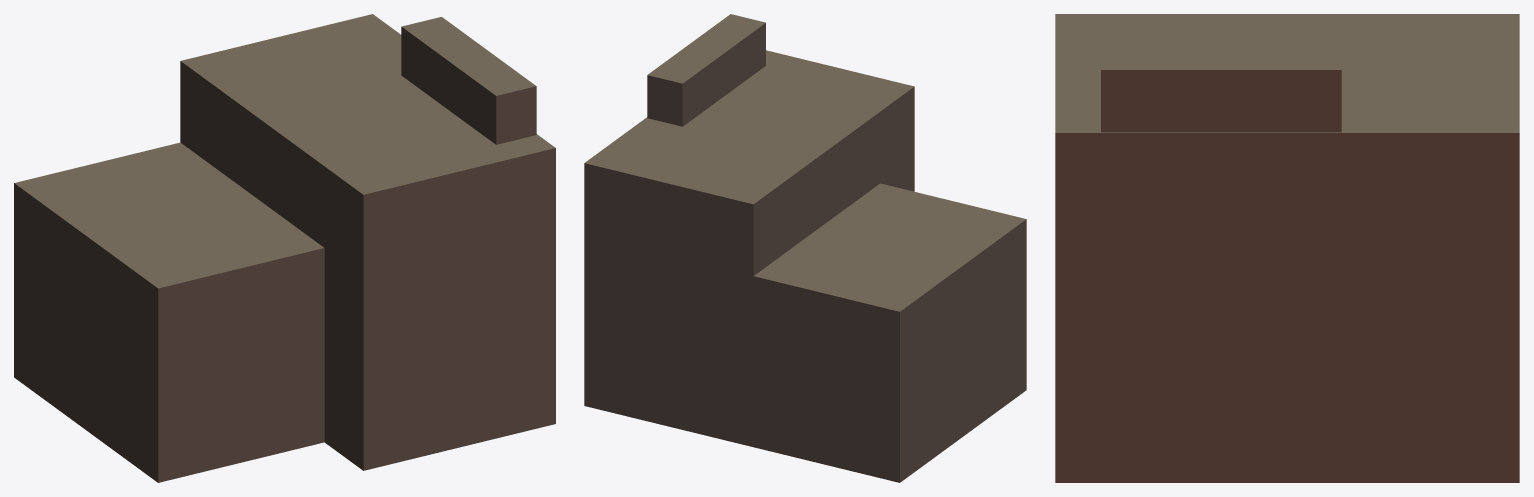
The model's file is mh-container-flats.far-facades-v3.lod2.glb.
The picture shows the model from 3 angles, left to right: view 1: azimuth 30°, elevation 25°; view 2: azimuth 150°, elevation 25°; view 3: azimuth 270°, elevation 25°; orthographic projection. The views are drawn at different scales.
Parts seen in each view (by area): view 1: mh-container-flats; view 2: mh-container-flats; view 3: mh-container-flats.
Part boxes in pixels (left/top/right/bottom): mh-container-flats: left=14, top=14, right=555, bottom=482; mh-container-flats: left=584, top=14, right=1026, bottom=482; mh-container-flats: left=1055, top=14, right=1519, bottom=482.
Bounding box in the file's own units: 13.8 × 11.95 × 12.2.
